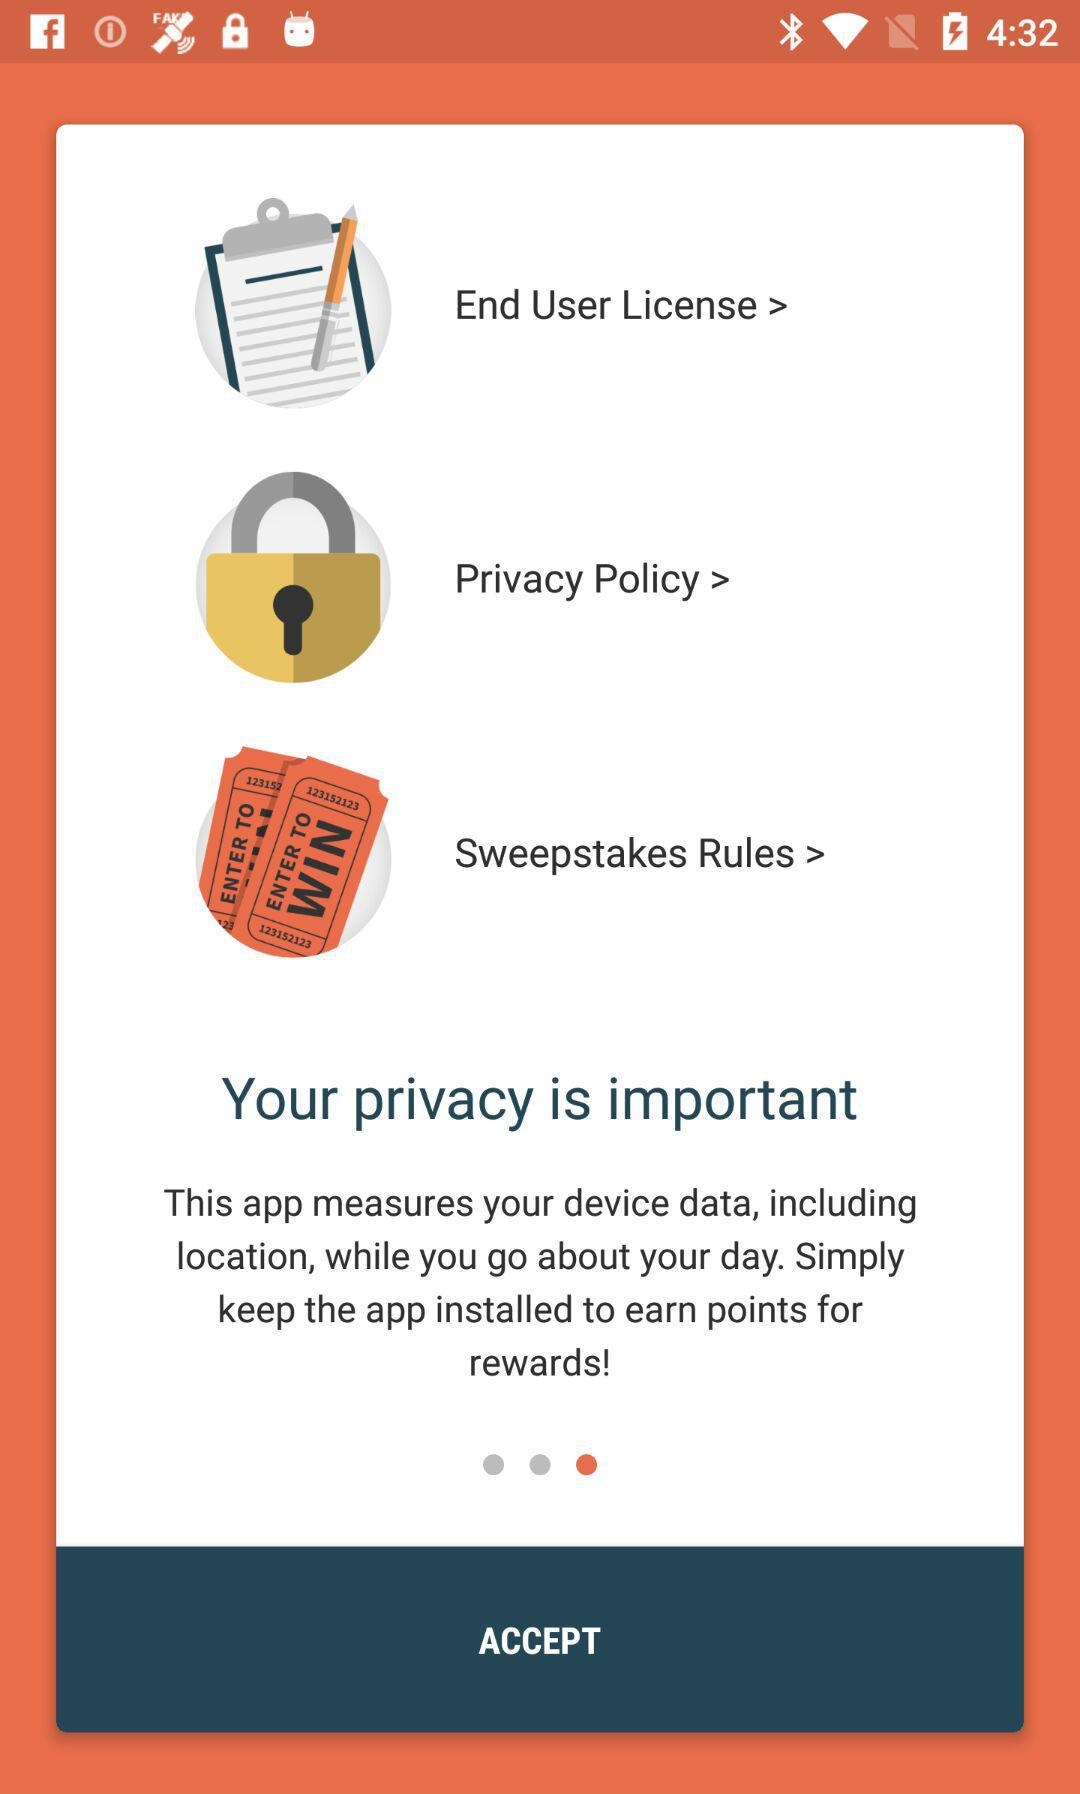Card: (56, 124, 1024, 1732)
Image: (195, 472, 393, 686), (195, 745, 393, 959), (195, 199, 393, 411)
PageIndicator: (480, 1452, 600, 1477)
Text: (163, 1187, 917, 1378), (220, 1076, 858, 1133), (454, 835, 824, 876), (456, 560, 732, 604), (456, 288, 787, 323)
TextButton: (56, 1545, 1024, 1732)
UpperTaskBar: (1, 1, 1080, 64)
